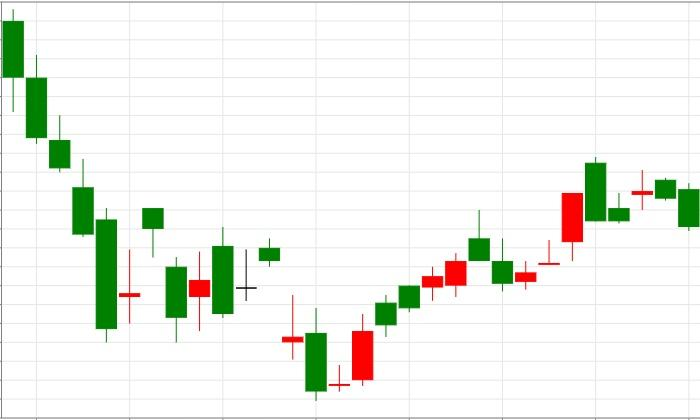morning_star_rise: (259, 239, 373, 401)
